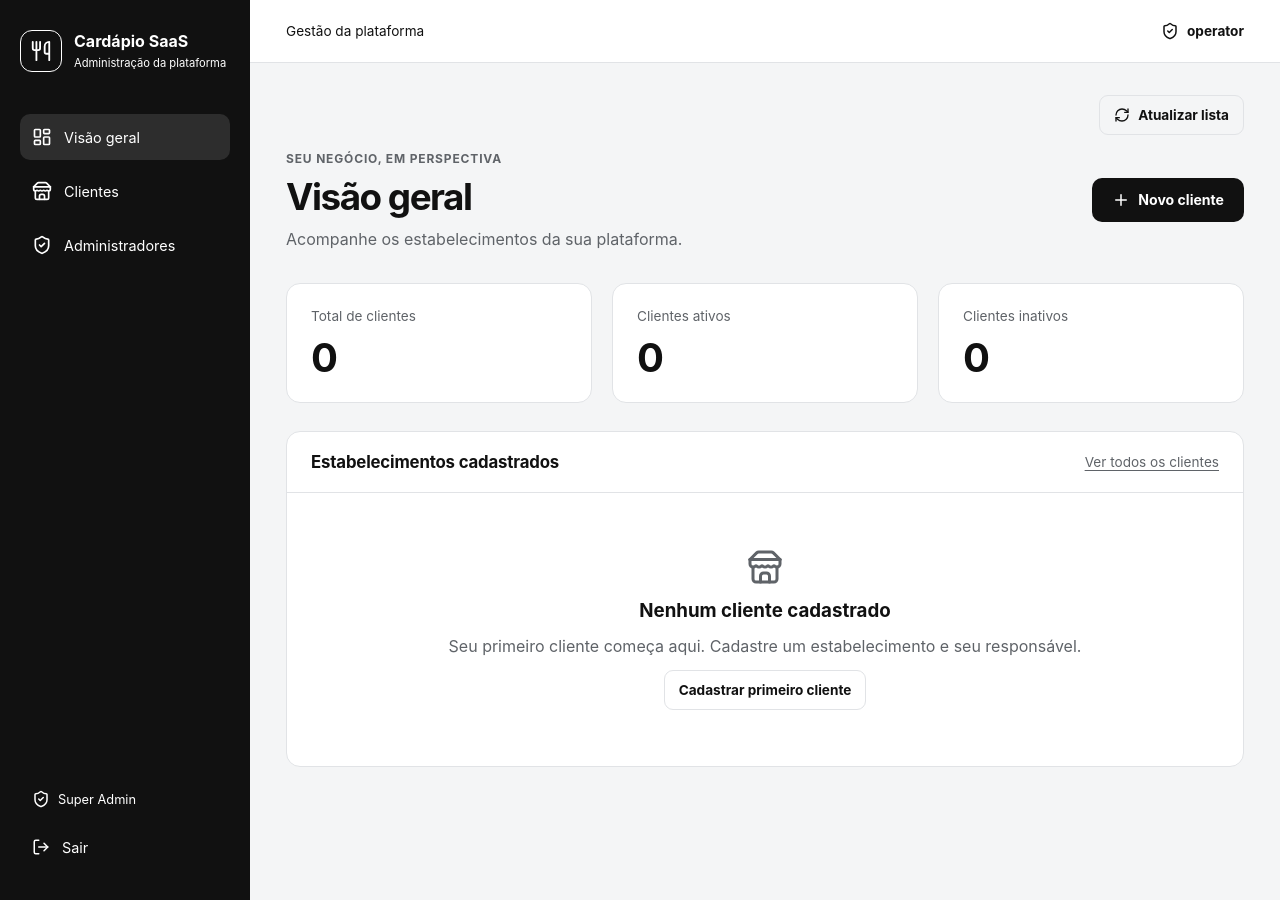
Scenario: platform management › shows the empty state on dashboard
Check: the heading "Nenhum cliente cadastrado" is shown, box [639, 599, 891, 622]
Step 1. Click the button "Cadastrar primeiro cliente" → (765, 690), box [664, 670, 866, 710]
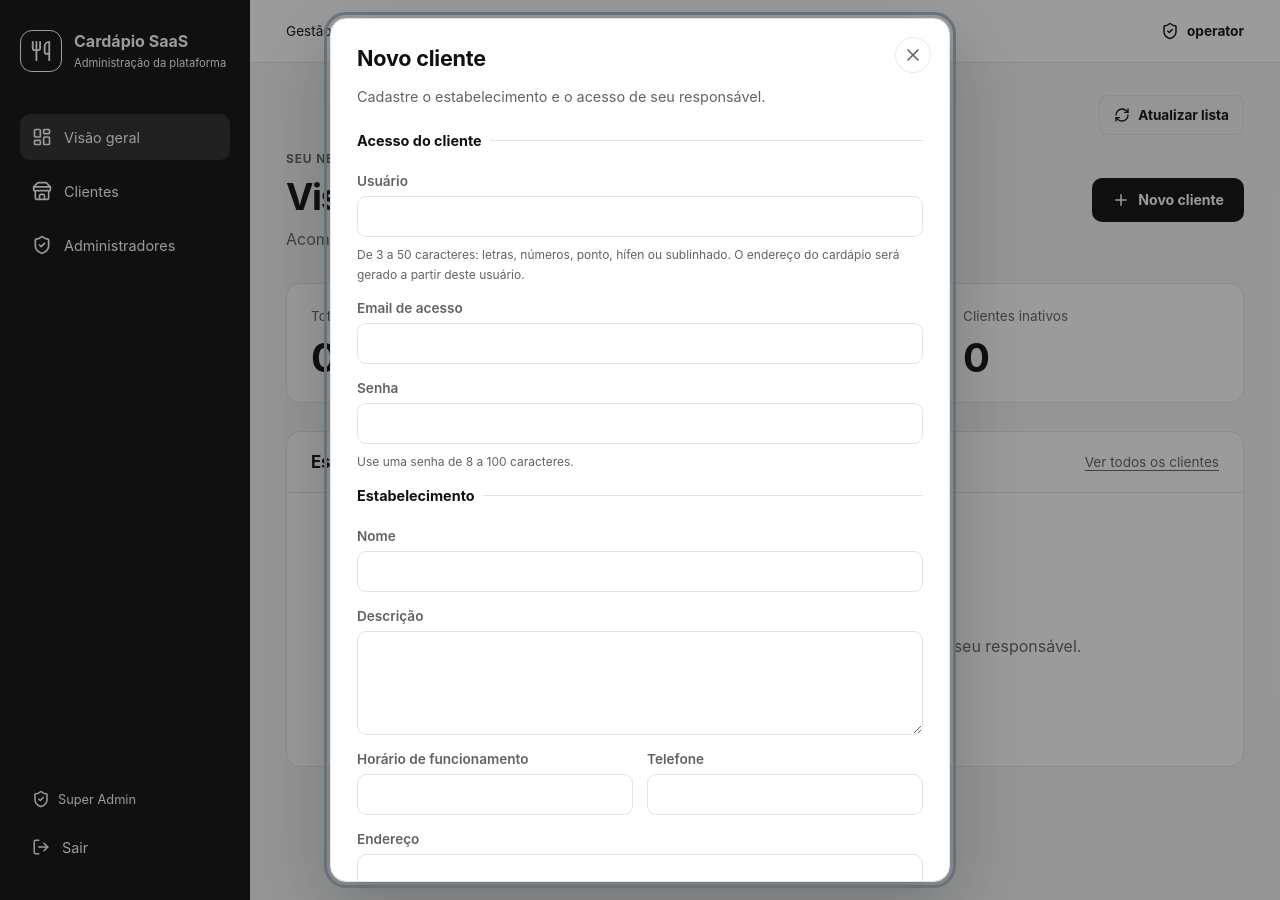
Check: the dialog "Novo cliente" is shown, box [330, 18, 950, 882]
